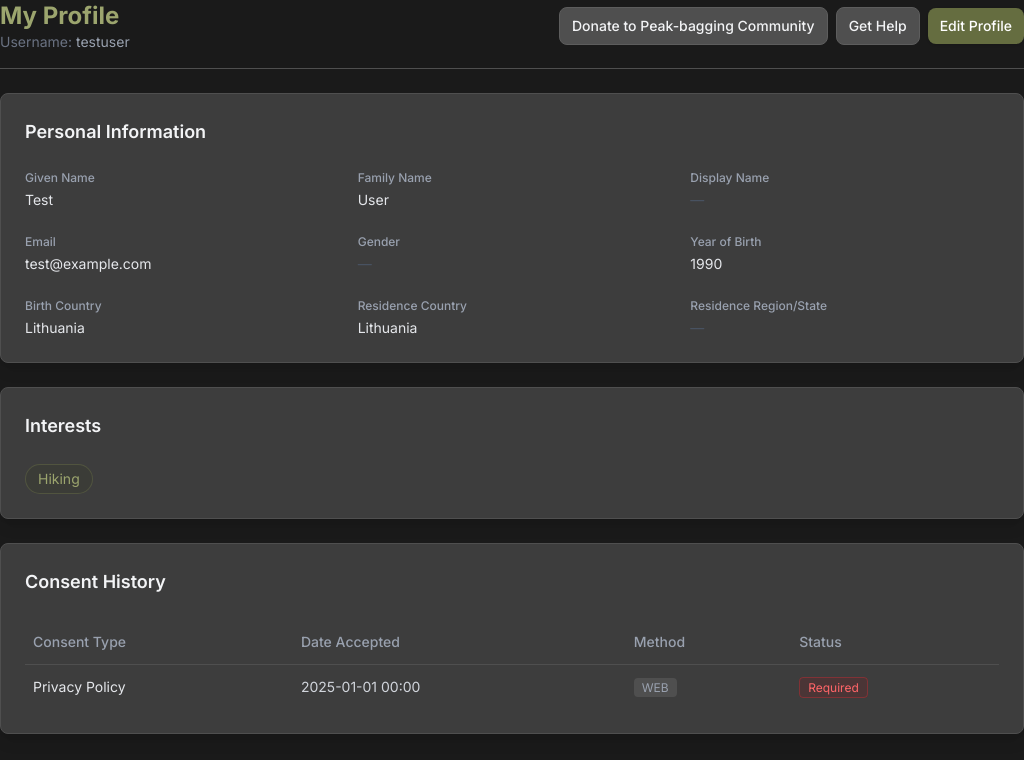
Test case: UserOwnProfile Accessibility Audit › Edit Mode › should have properly labeled form inputs
Click the button "Edit Profile" at (976, 26), box [928,8,1023,44]
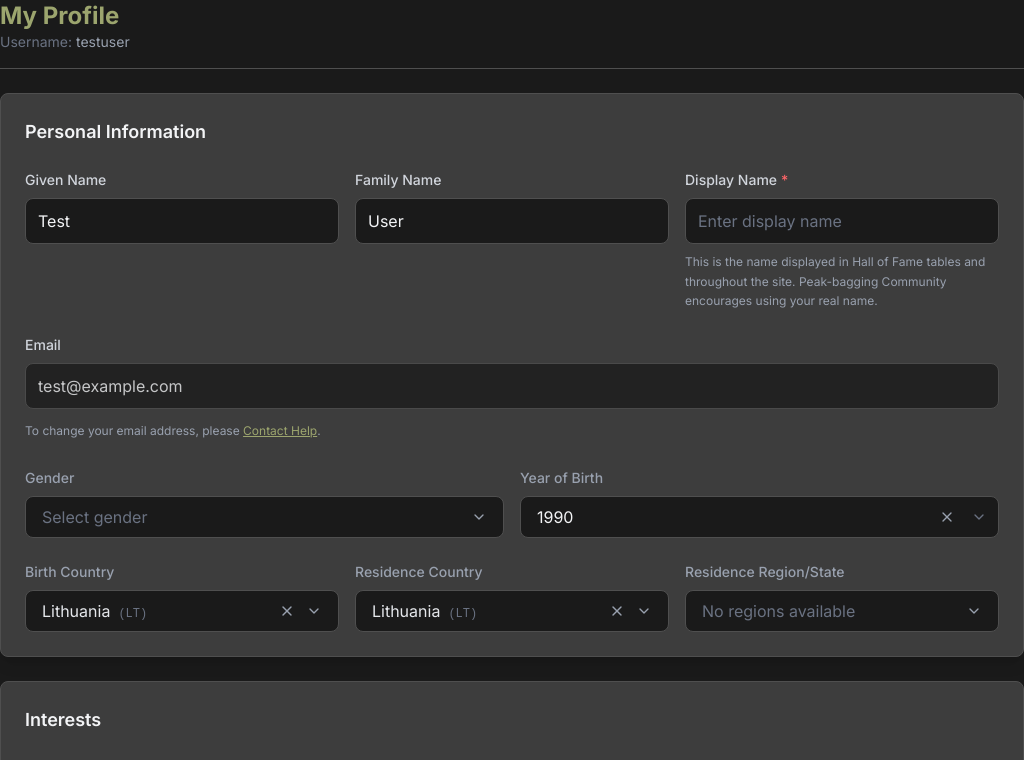
Now the field labelled "Given Name" is shown, box [25,198,339,244]
Now the field labelled "Family Name" is shown, box [355,198,669,244]
Now the field labelled "Email" is shown, box [25,362,999,408]
